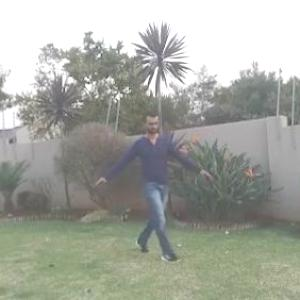land: (96, 110, 203, 246)
